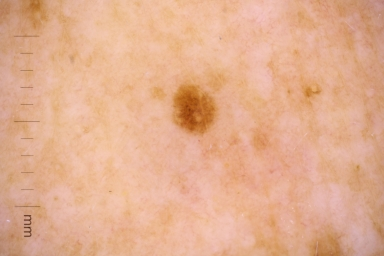nevus: (176, 84, 213, 135)
